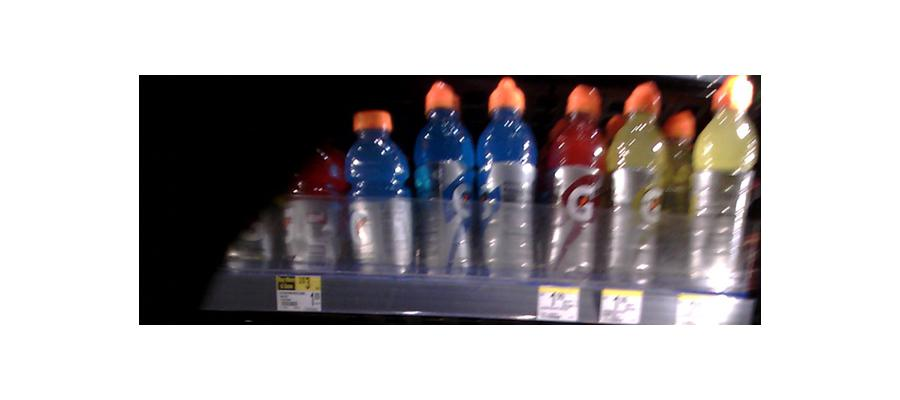bottle: (691, 74, 759, 300), (476, 79, 540, 280), (544, 87, 607, 286), (609, 86, 668, 293), (413, 80, 474, 278), (348, 107, 409, 278), (284, 128, 343, 268)
